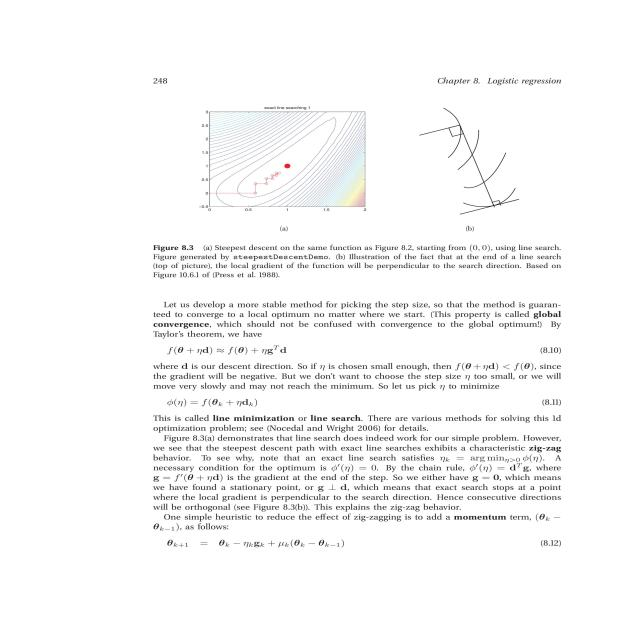diagram: (100, 97, 613, 280)
